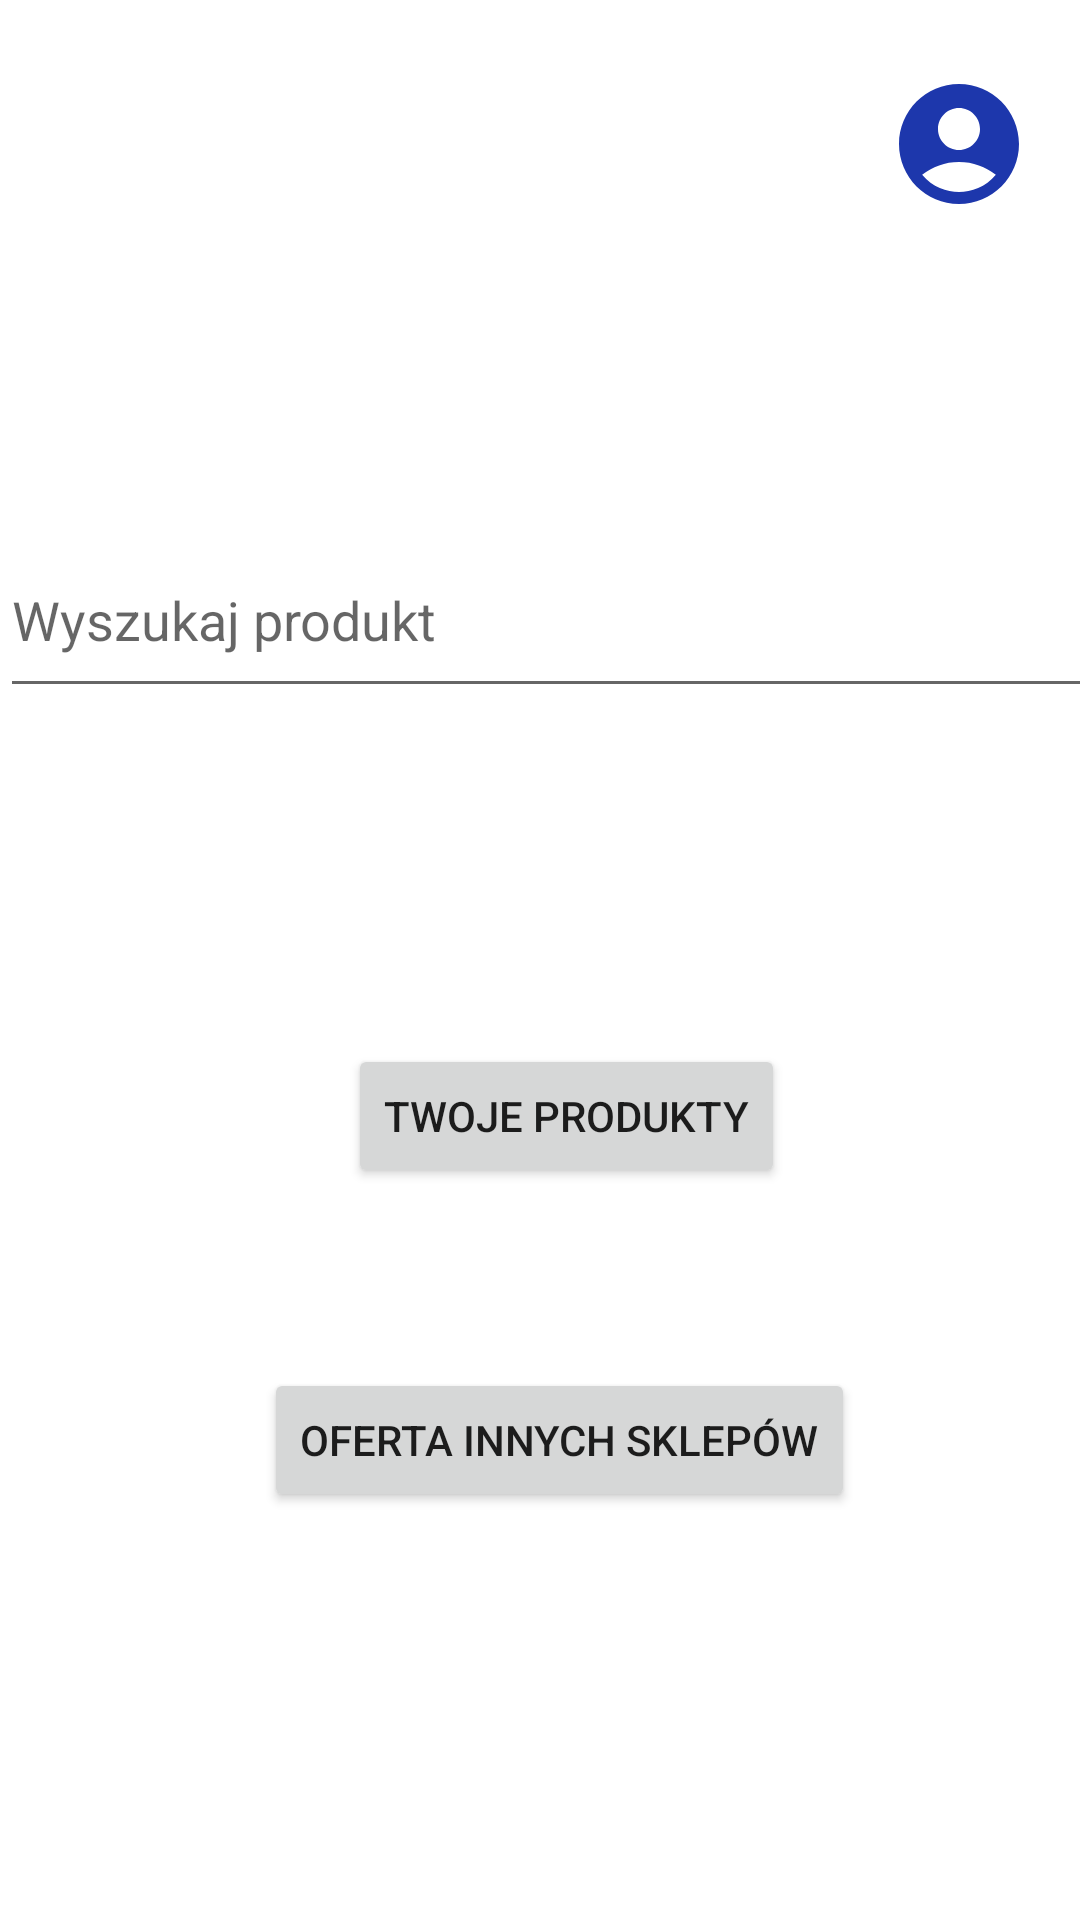

Screen size 1080w x 1920h. Icon name, then its center in pixels as (x,y):
profile: (959,144)
